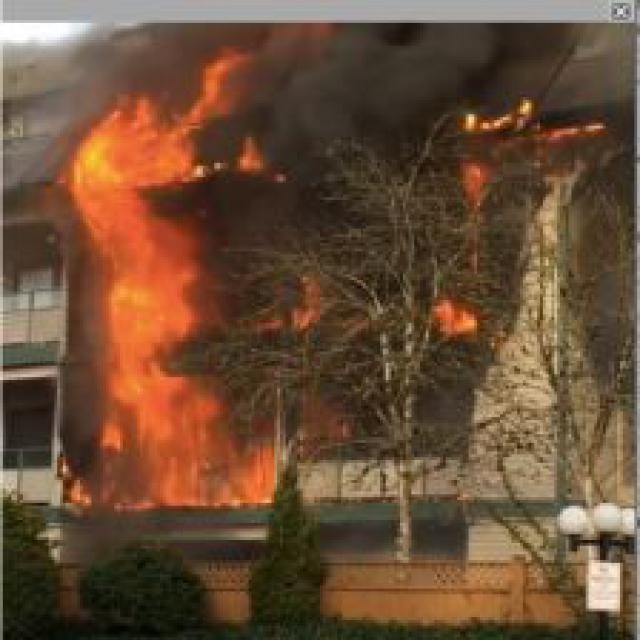fire: (46, 29, 320, 528), (457, 97, 612, 143), (429, 292, 480, 348), (454, 157, 497, 223)
